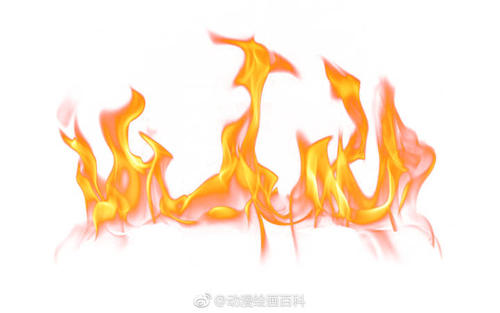fire: (64, 27, 425, 229)
